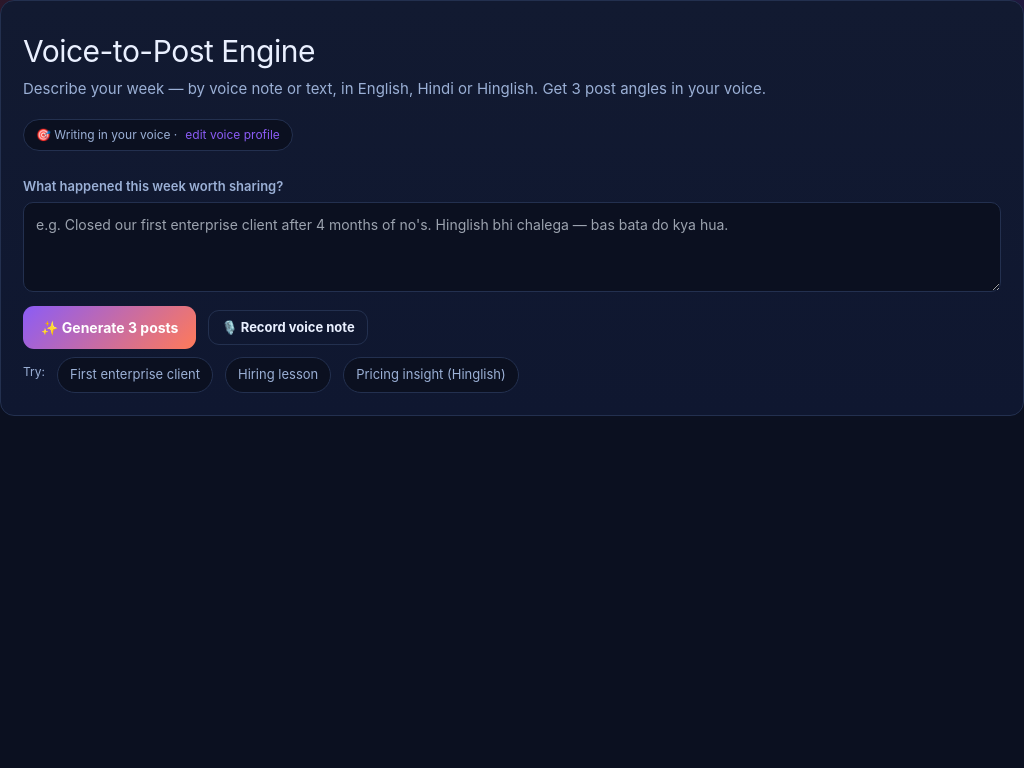
<GenerateClient> › renders exactly three variant cards in the grid
The width and height of the screenshot is (1024, 768).
Type "a great week" into the text box labelled "What happened this week worth sharing?".
click(512, 247); type("a great week")  # box [23,202,1001,292]
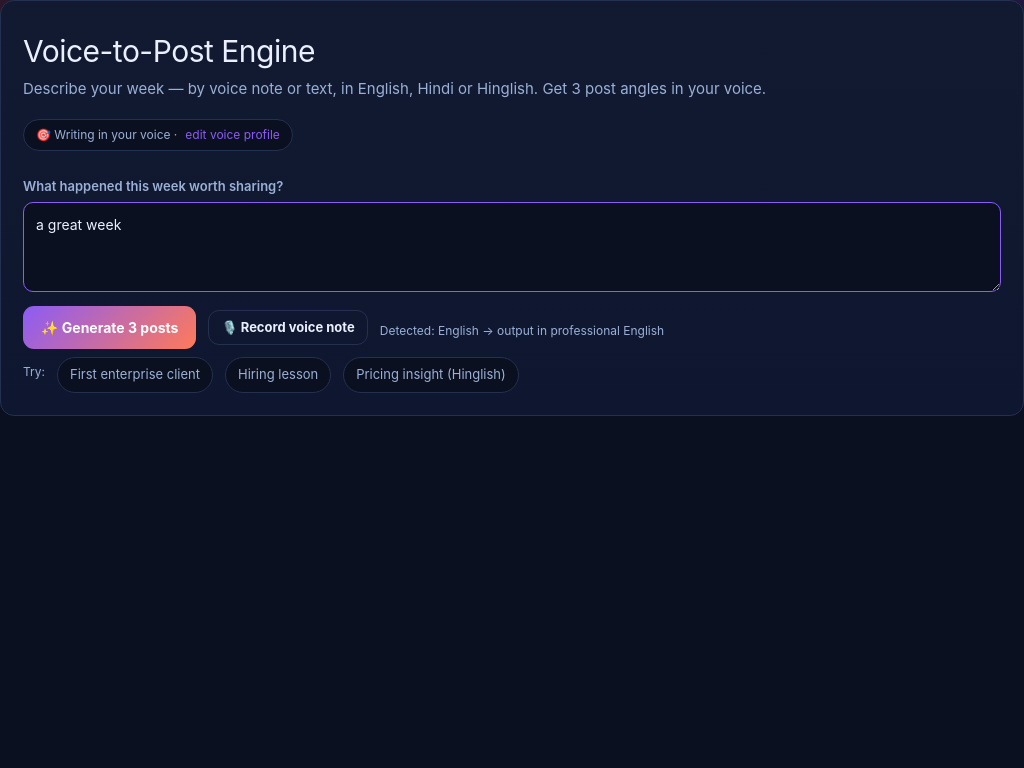
Click the button "✨ Generate 3 posts".
click(110, 328)  # box [23,306,196,349]
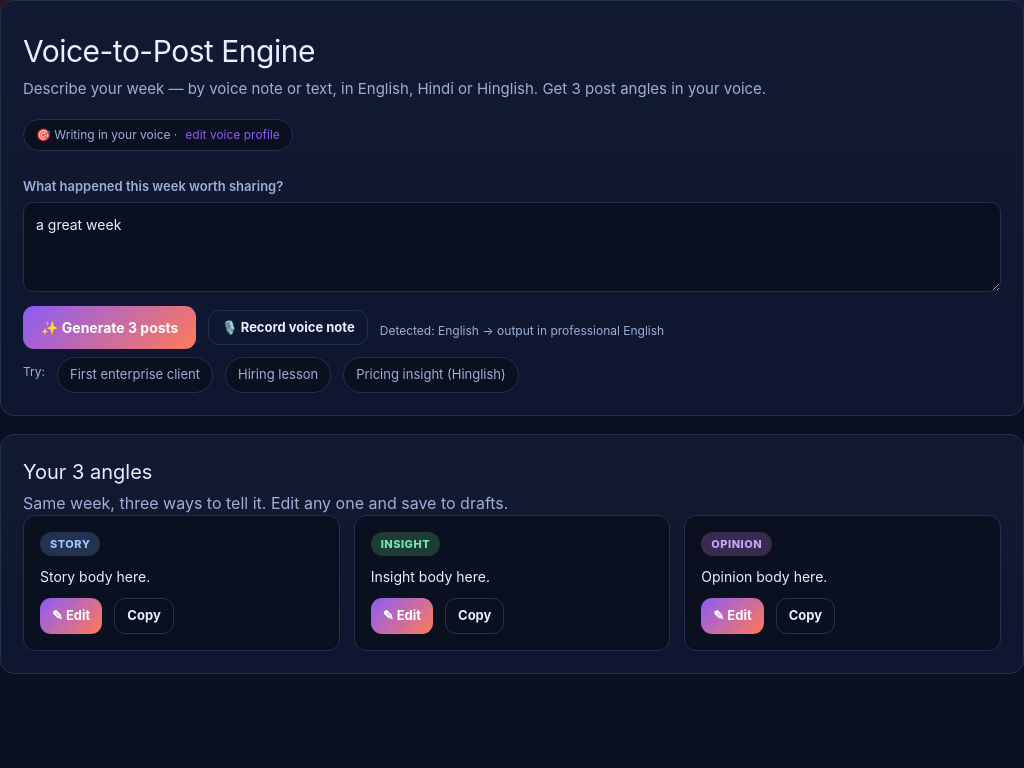
expect the text "Story body here." is shown: met, box [40,568,150,585]
expect the text "Story body here." is shown 3 times: met, box [40,568,150,585]; [371,568,490,585]; [701,568,827,585]
